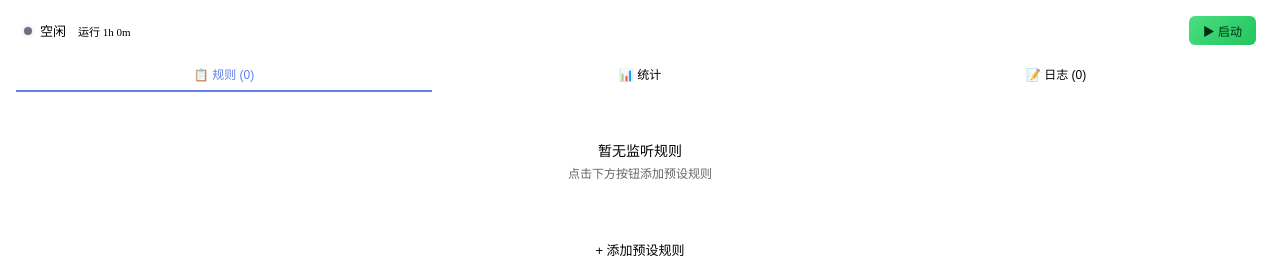
Scenario: WatchPanel › 统计信息显示 › 有统计数据时应该显示 Token 消耗
What coordinates should you click on to do the following:
click the button "📊 统计"
I would click on:
 (640, 74)
Its box is [432, 57, 848, 92].
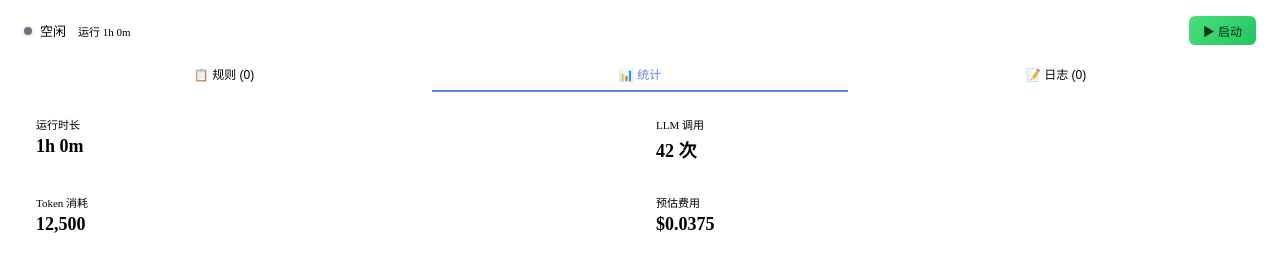
Now the text "Token 消耗" is shown, box [36, 197, 88, 209]
Now the text "12,500" is shown, box [36, 214, 86, 234]
